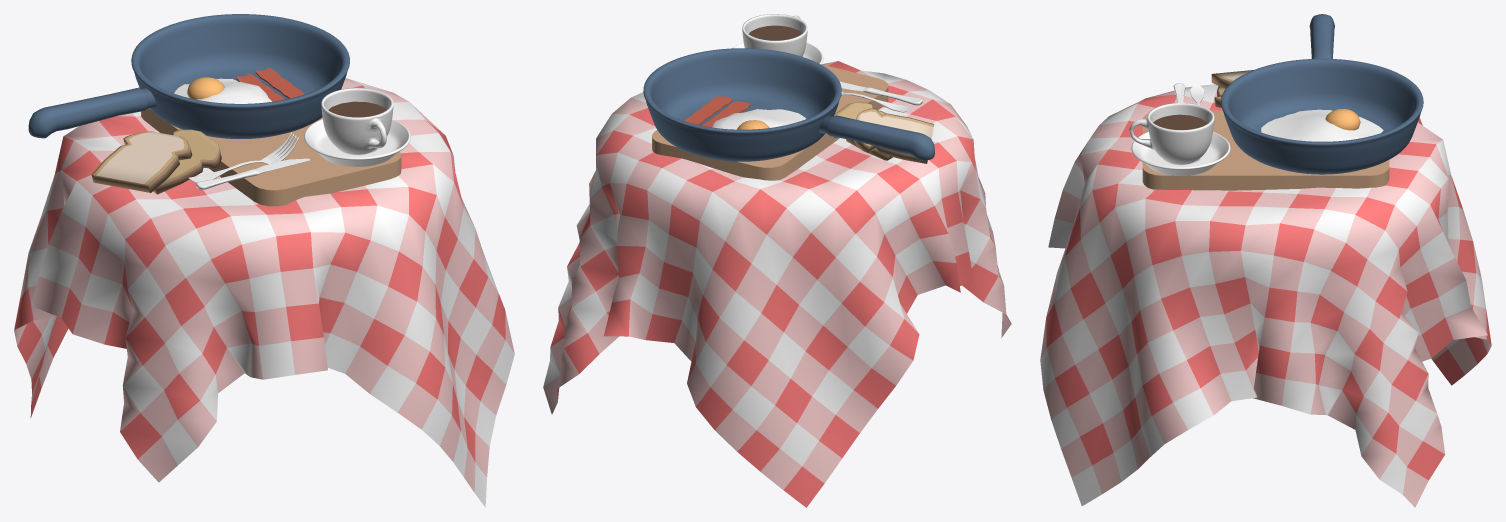
The model's file is breakfast.fbx.
3 renders of one model, left to right at view 1: azimuth 30°, elevation 25°; view 2: azimuth 150°, elevation 25°; view 3: azimuth 270°, elevation 25°, orthographic. The views are drawn at different scales.
Visible parts, largest first — view 1: Mesh_Plane, Mesh_Pan, Mesh_Cube_2_2, Mesh_Cube_1, Mesh_Lathe, Mesh_Handle, Mesh_Lathe_1, Mesh_Cube, Mesh_Plane_2, Mesh_fork, Mesh_knife, Mesh_Disc_2 (+2 smaller); view 2: Mesh_Plane, Mesh_Pan, Mesh_Cube_2_2, Mesh_Handle, Mesh_Lathe, Mesh_Cube_1, Mesh_Plane_2, Mesh_Disc_2, Mesh_Cube, Mesh_Cube_3, Mesh_knife; view 3: Mesh_Plane, Mesh_Pan, Mesh_Cube_2_2, Mesh_Lathe, Mesh_Plane_2, Mesh_Lathe_1, Mesh_Handle, Mesh_Disc_2, Mesh_Sphere.
Boxes of the visible parts, x1,y1,x2,y2 form: Mesh_Plane: (14,78,514,507); Mesh_Pan: (131,14,349,138); Mesh_Cube_2_2: (141,108,401,206); Mesh_Cube_1: (91,131,192,192); Mesh_Lathe: (321,88,393,154); Mesh_Handle: (28,88,156,138); Mesh_Lathe_1: (304,119,410,166); Mesh_Cube: (153,129,221,194); Mesh_Plane_2: (174,78,271,103); Mesh_fork: (188,132,298,182); Mesh_knife: (196,158,310,189); Mesh_Disc_2: (328,101,386,117); Mesh_Plane: (543,61,1011,507); Mesh_Pan: (643,48,841,161); Mesh_Cube_2_2: (652,64,888,180); Mesh_Handle: (819,115,934,160); Mesh_Lathe: (742,14,807,56); Mesh_Cube_1: (854,108,934,163); Mesh_Plane_2: (712,109,805,129); Mesh_Disc_2: (748,25,802,40); Mesh_Cube: (833,102,892,160); Mesh_Cube_3: (684,96,732,124); Mesh_knife: (839,81,922,105); Mesh_Plane: (1040,84,1491,507); Mesh_Pan: (1221,58,1423,174); Mesh_Cube_2_2: (1142,110,1389,190); Mesh_Lathe: (1129,103,1214,164); Mesh_Plane_2: (1261,109,1383,141); Mesh_Lathe_1: (1131,132,1230,175); Mesh_Handle: (1309,14,1334,58); Mesh_Disc_2: (1153,114,1207,129); Mesh_Sphere: (1325,109,1360,130).
Size of the model in its own units: 468 by 408 by 470.
